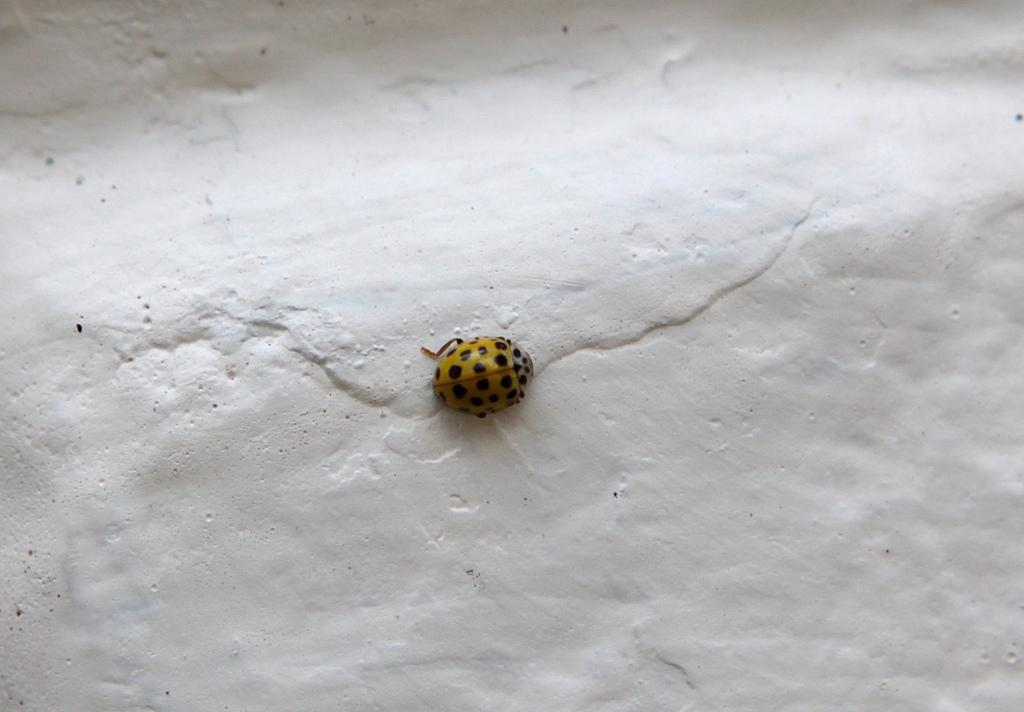ladybug: (421, 335, 541, 423)
